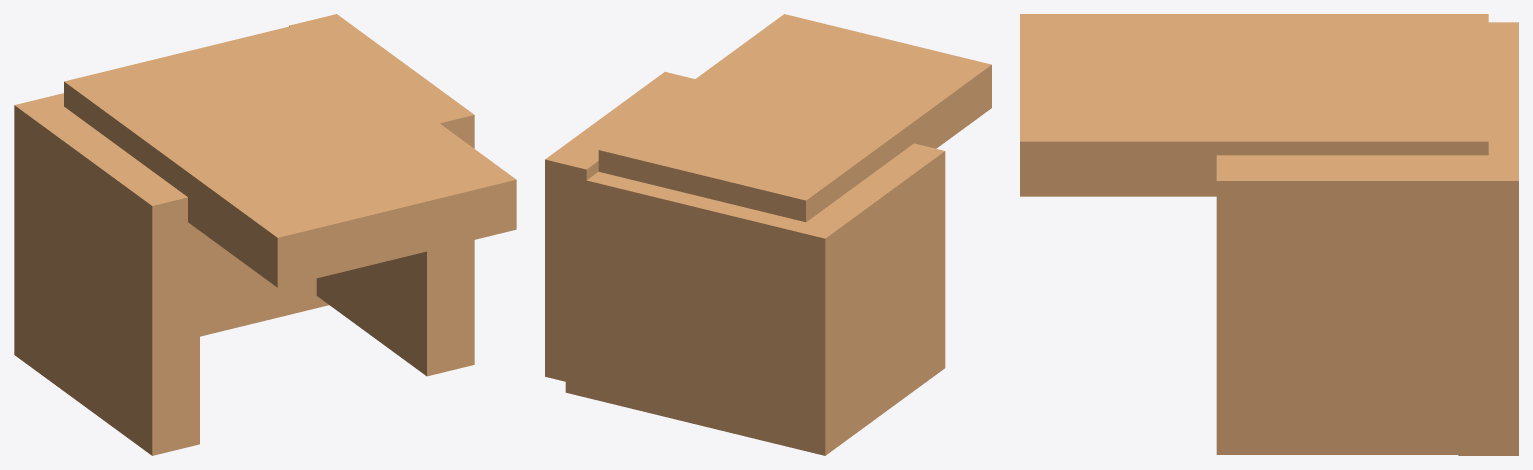
The model's file is chair.glb.
3 renders of one model, left to right at view 1: azimuth 30°, elevation 25°; view 2: azimuth 150°, elevation 25°; view 3: azimuth 270°, elevation 25°, orthographic. The views are drawn at different scales.
Visible parts, largest first — view 1: group_0_1650274, group_0_30377, group_0_40919, group_0_11593967; view 2: group_0_11593967, group_0_1650274, group_0_30377, group_0_40919; view 3: group_0_40919, group_0_1650274, group_0_11593967.
Part boxes in pixels (left/top/right/bottom): group_0_1650274: left=64, top=23, right=516, bottom=287; group_0_30377: left=14, top=102, right=199, bottom=455; group_0_40919: left=289, top=14, right=474, bottom=376; group_0_11593967: left=26, top=93, right=328, bottom=336; group_0_11593967: left=565, top=171, right=838, bottom=453; group_0_1650274: left=598, top=14, right=991, bottom=222; group_0_30377: left=815, top=143, right=945, bottom=455; group_0_40919: left=545, top=72, right=694, bottom=381; group_0_40919: left=1216, top=155, right=1518, bottom=454; group_0_1650274: left=1020, top=14, right=1488, bottom=196; group_0_11593967: left=1458, top=28, right=1518, bottom=455.
Bounding box in the file's own units: 27 × 22 × 33.
